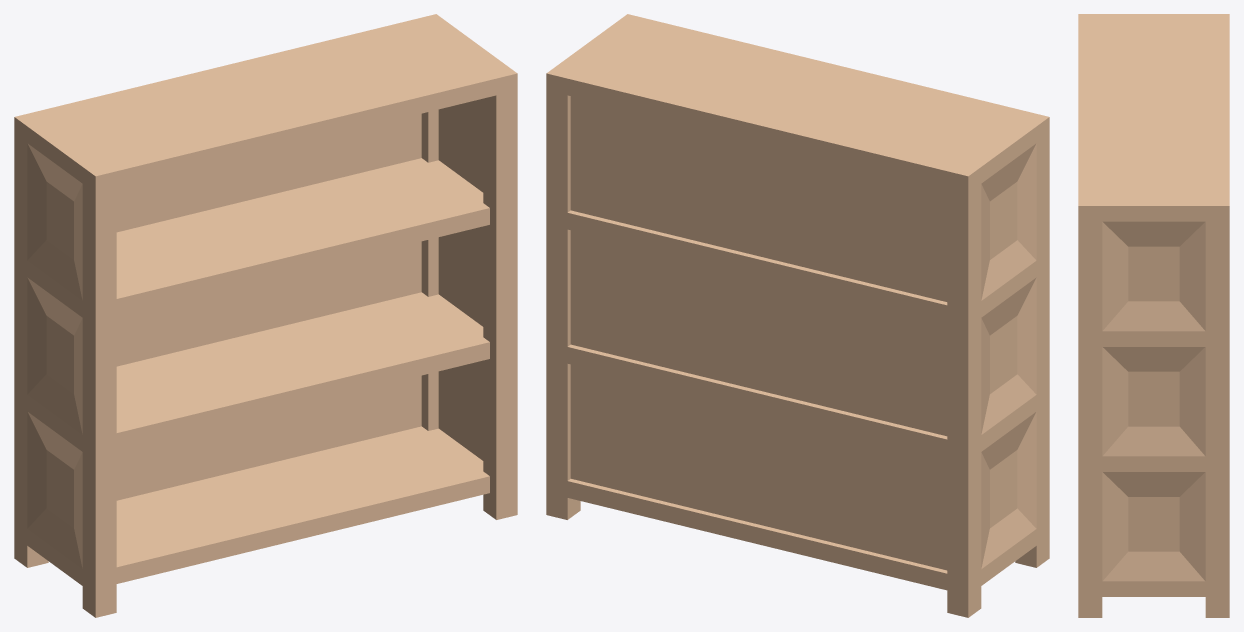
Rendered from kenney-bookcaseClosedWide.glb.
The picture shows the model from 3 angles, left to right: view 1: azimuth 30°, elevation 25°; view 2: azimuth 150°, elevation 25°; view 3: azimuth 270°, elevation 25°; orthographic projection. The views are drawn at different scales.
Visible parts, largest first — view 1: bookcaseClosedWide(Clone); view 2: bookcaseClosedWide(Clone); view 3: bookcaseClosedWide(Clone).
Part boxes in pixels (x1,y1,x2,y2): bookcaseClosedWide(Clone): [14, 14, 517, 617]; bookcaseClosedWide(Clone): [546, 14, 1049, 617]; bookcaseClosedWide(Clone): [1078, 14, 1229, 617].
Size of the model in its own units: 1.2 by 1.2 by 0.4001.
